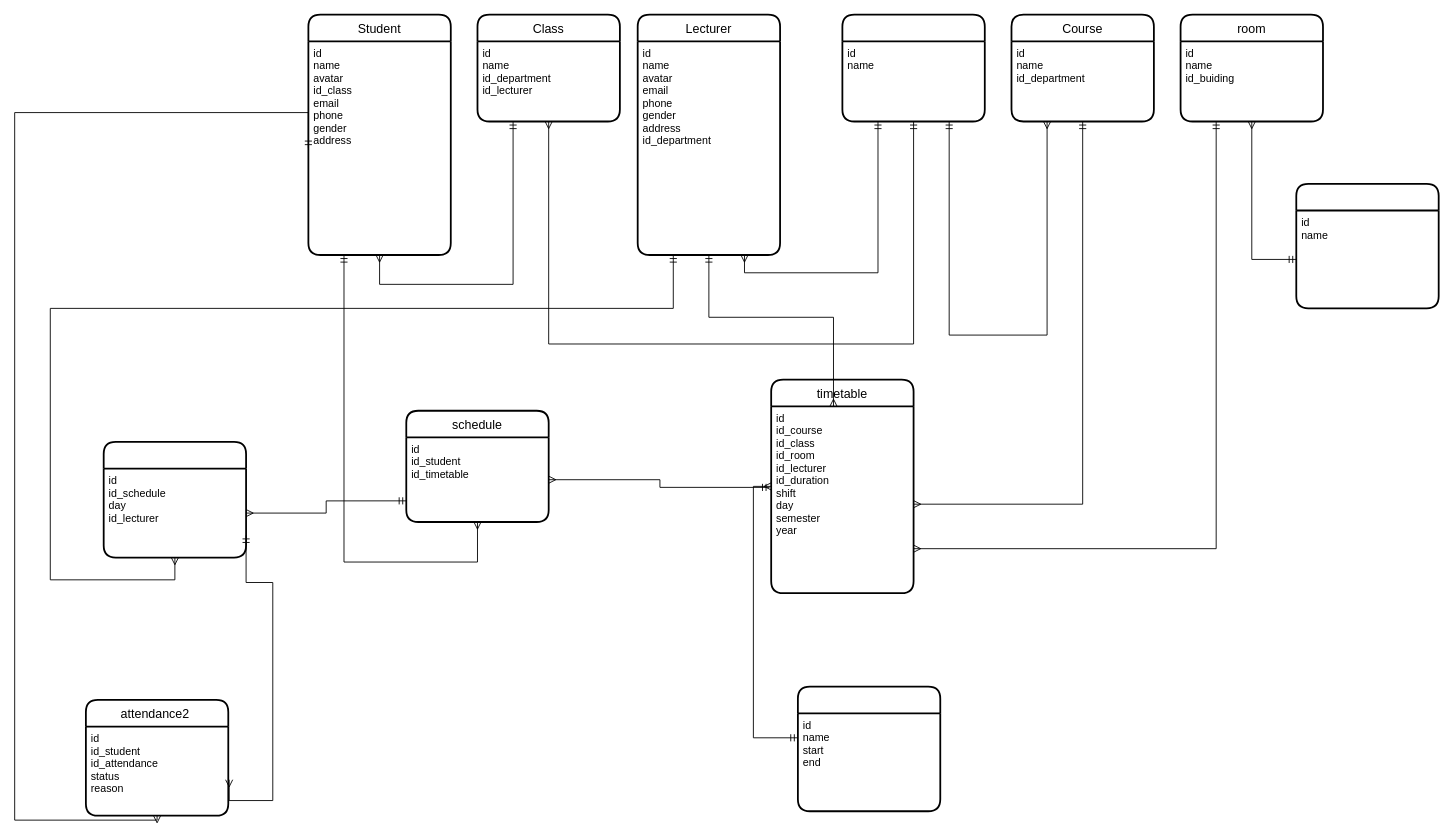
The diagram is 1453 pixels wide and 837 high, and some of its shapes have lost their labels. The box of each missing label's shape, as (x1, y1, x2, y2) in pixels:
attendance: (102, 441, 247, 558)
buiding: (1295, 182, 1439, 309)
Department: (841, 13, 985, 122)
duration: (797, 685, 941, 812)
